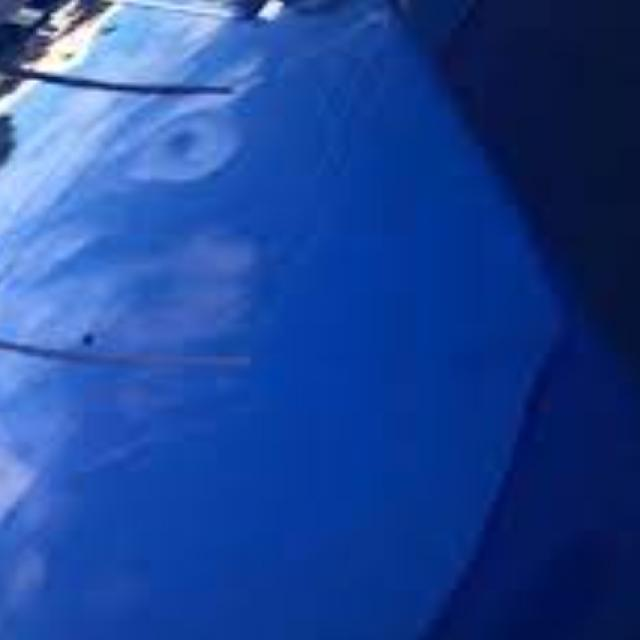dents: (128, 92, 277, 200)
